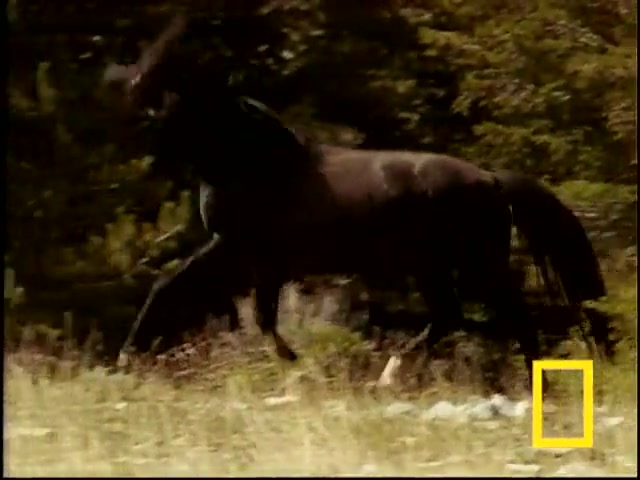horse: (117, 86, 604, 391)
